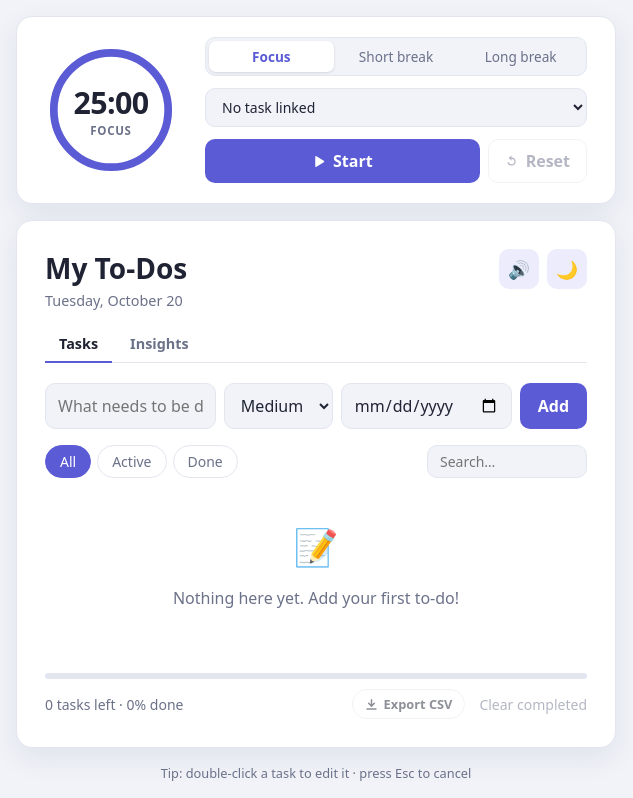
App: managing to-dos › deletes a task
Type "Buy milk" into the field named "New to-do" at (130, 406), box [45,383,216,429]
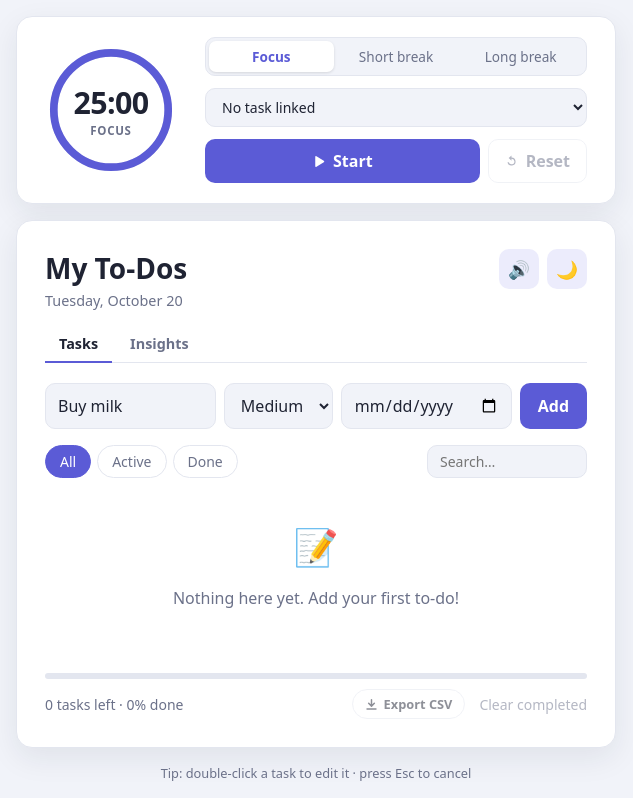
Click the button "Add" at (553, 406), box [520,383,587,429]
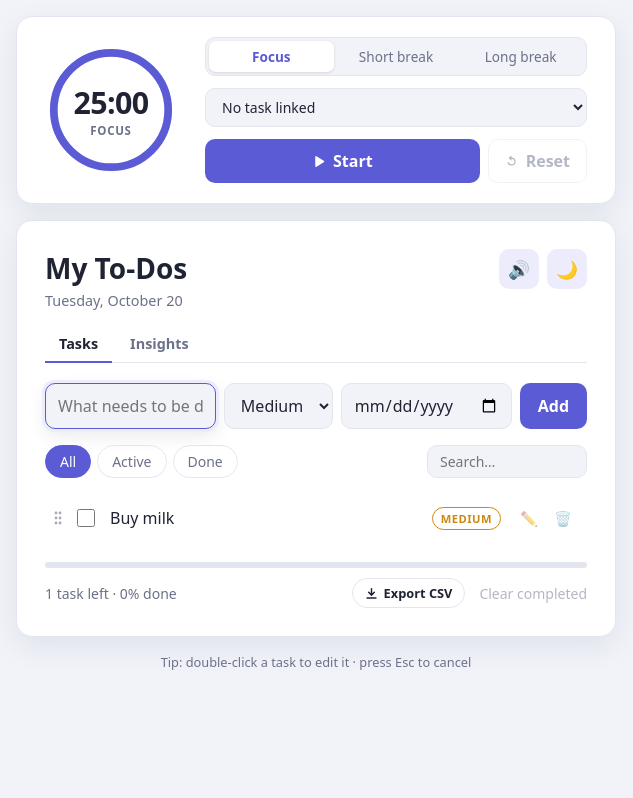
Type "Call mum" into the field named "New to-do" at (130, 406), box [45,383,216,429]
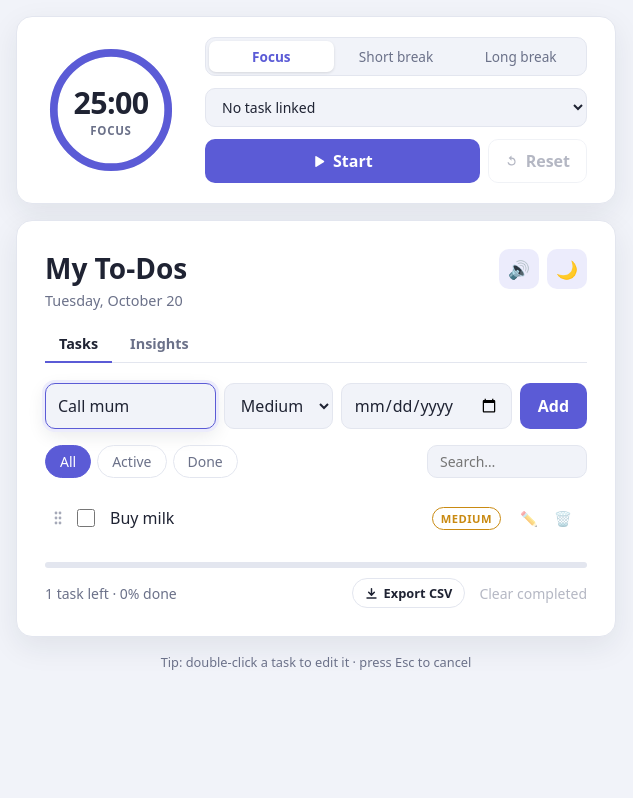
Click the button "Add" at (553, 406), box [520,383,587,429]
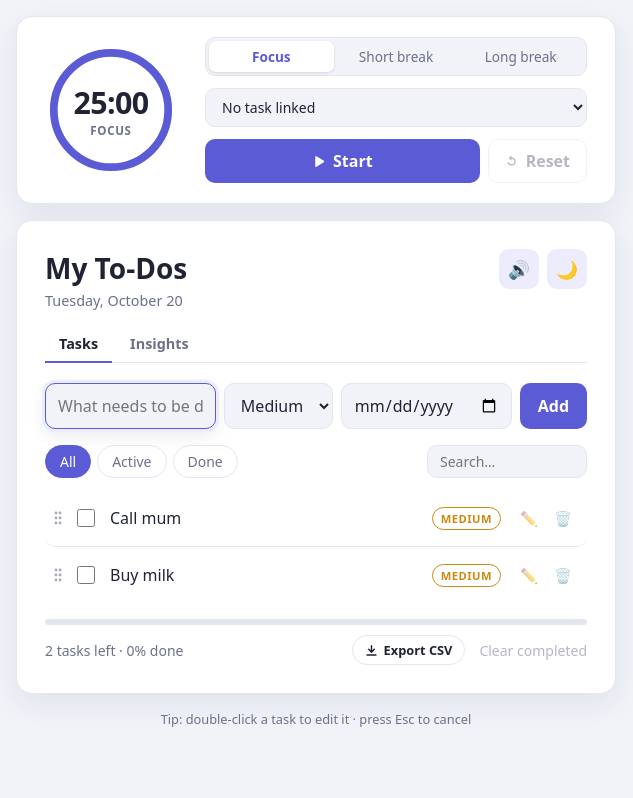
Click the button named "Delete" at (563, 575), box [547,559,579,591]
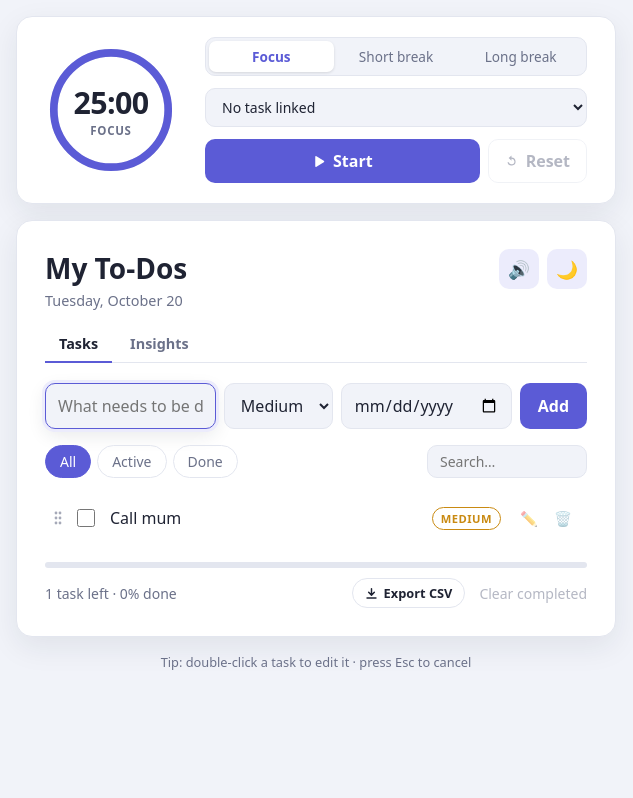
expect the text "Call mum" is shown: met, box [110,507,181,529]
expect the text "Buy milk" is gone: met
expect the number of list items is 1: met, box [49,502,579,534]
